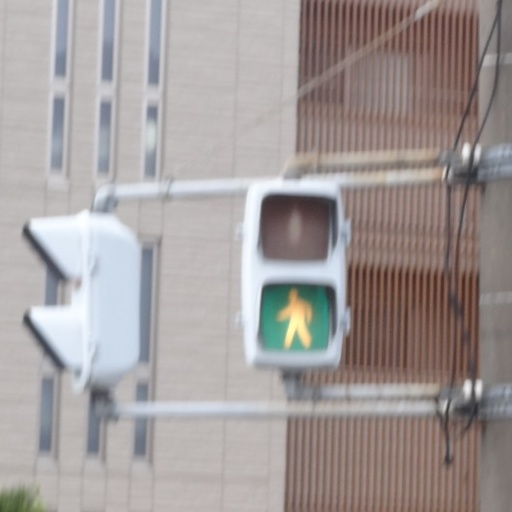Pedestrian_Signal_Blue: (240, 177, 344, 367)
